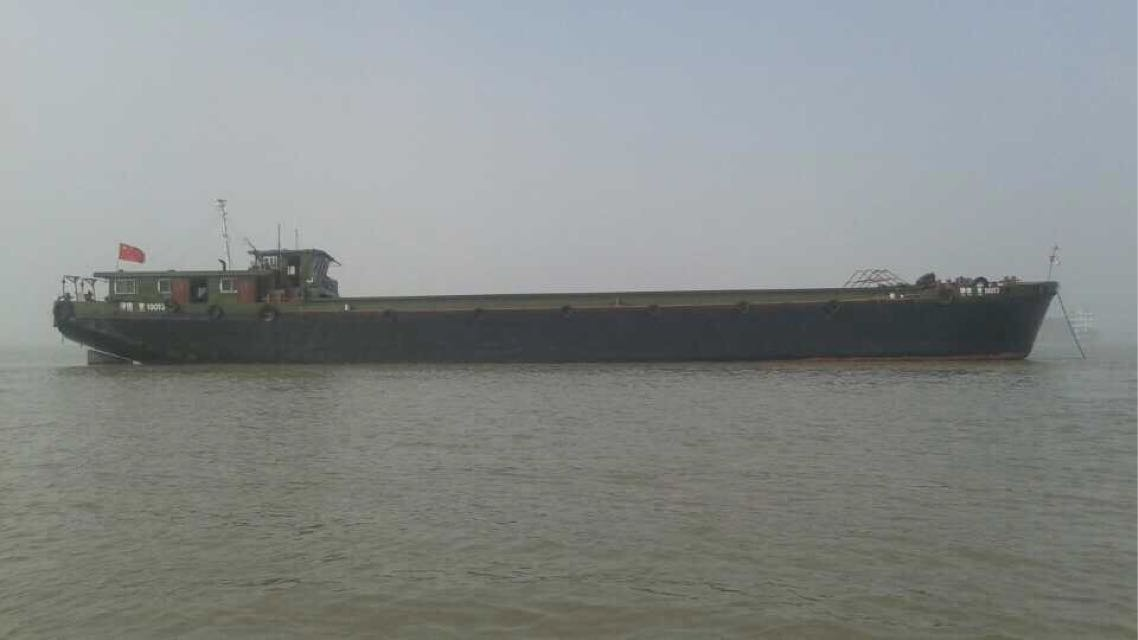Cargoship: (52, 198, 1067, 372)
